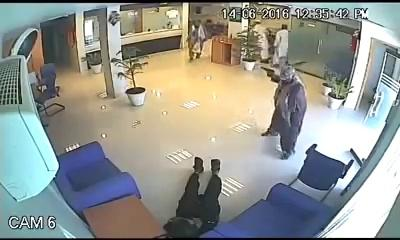weapon: (259, 64, 275, 78)
